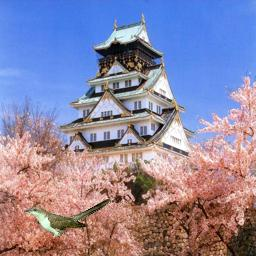Cuckoo: (24, 198, 111, 237)
